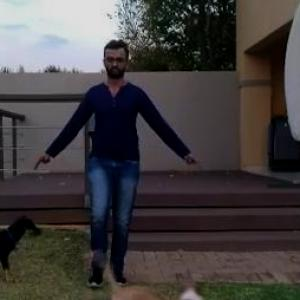land: (48, 52, 198, 288)
